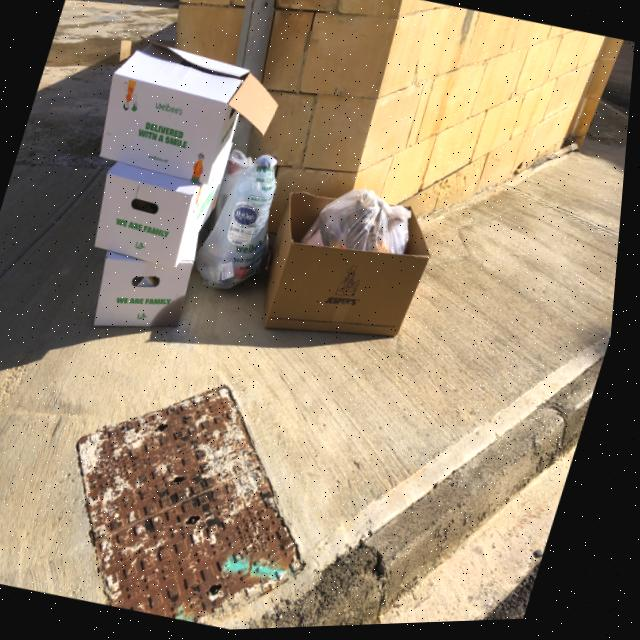Other: (86, 31, 296, 203), (253, 182, 450, 363), (87, 120, 239, 277), (88, 214, 213, 348)
Recycled Waste -Grey or Green Bag-: (195, 149, 297, 300), (302, 183, 426, 275)
